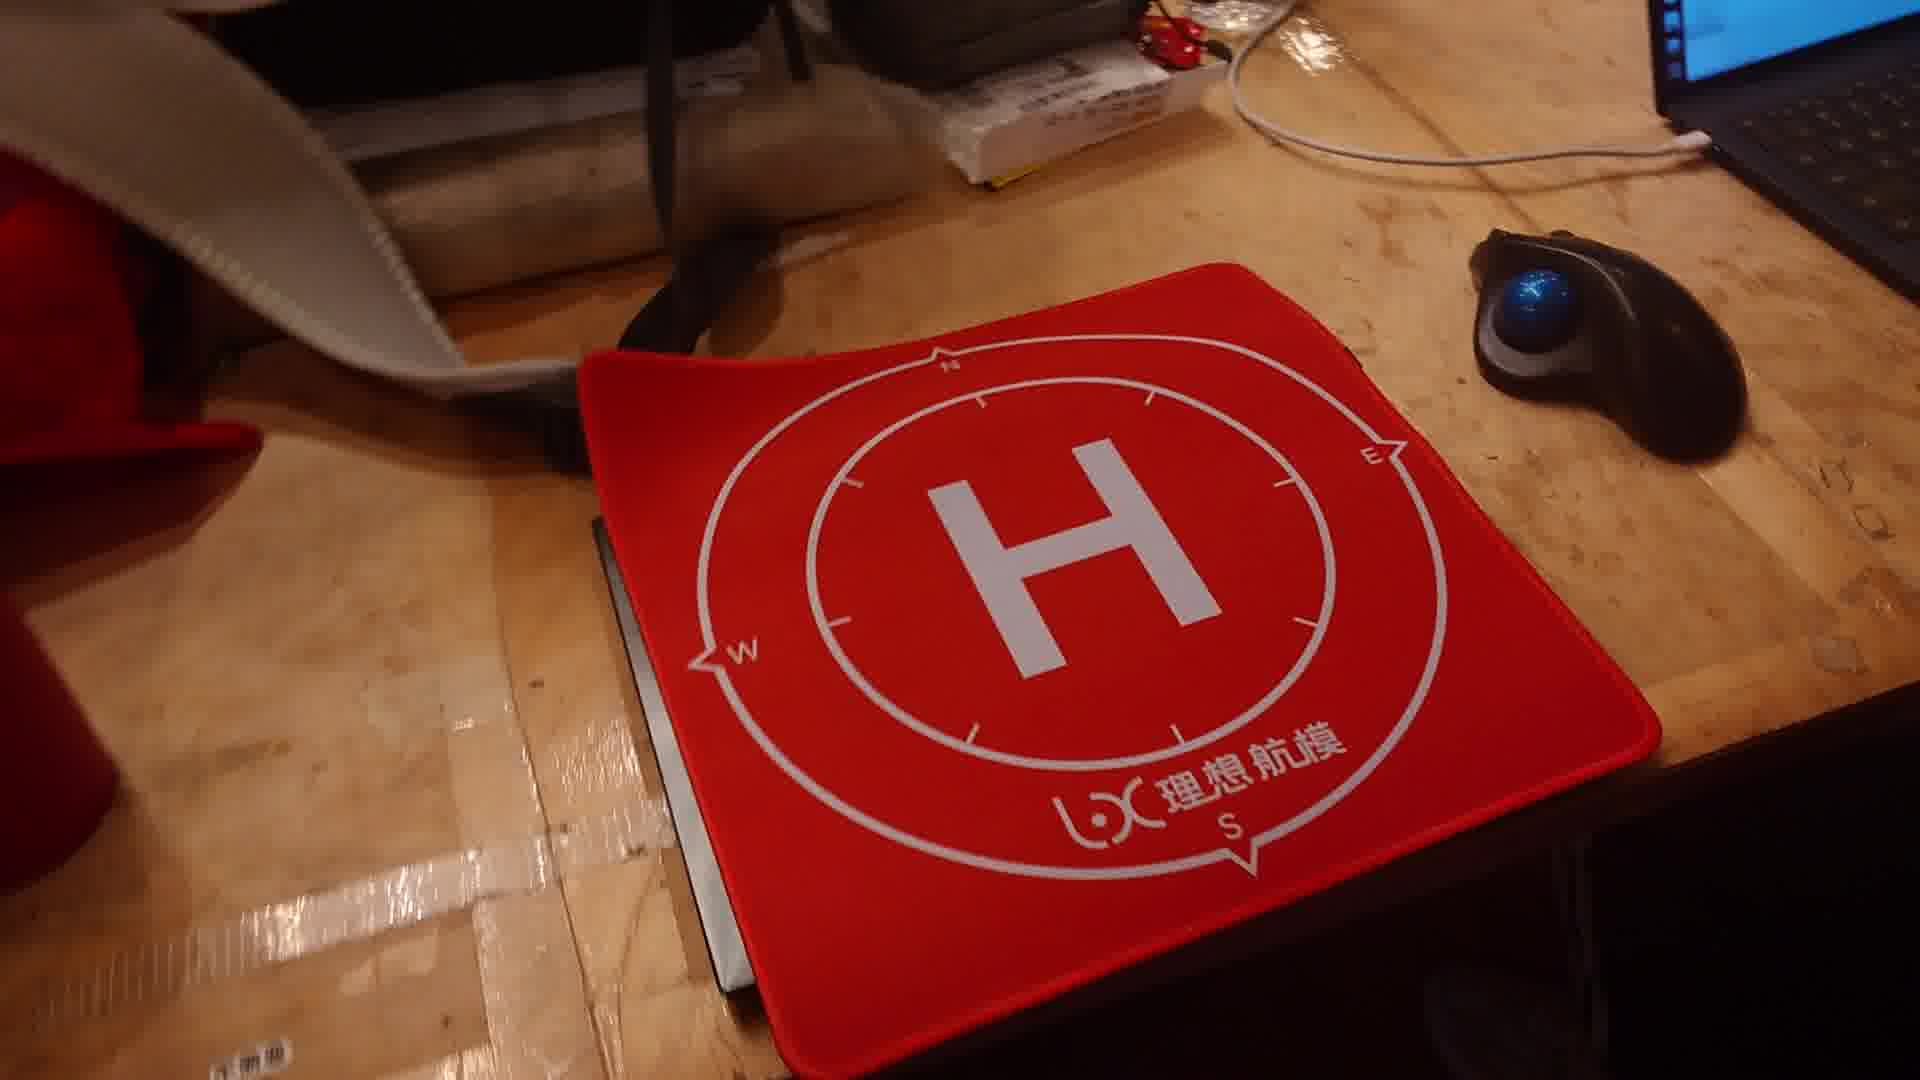H: (926, 436, 1232, 684)
